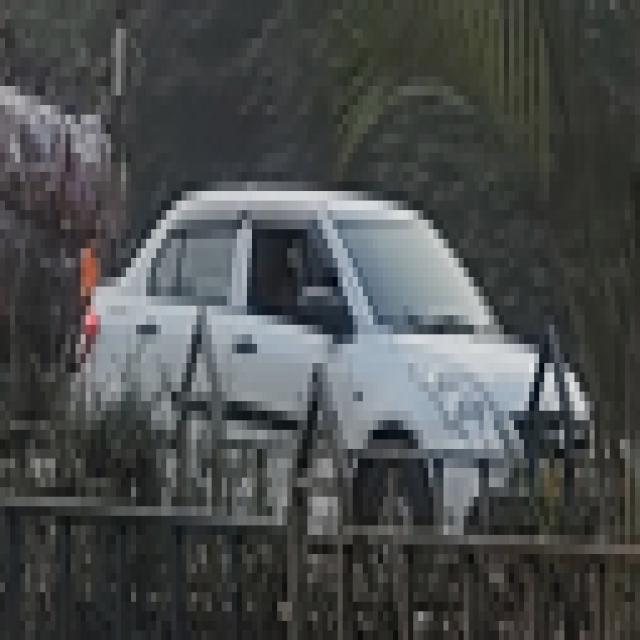car: (58, 188, 598, 590)
